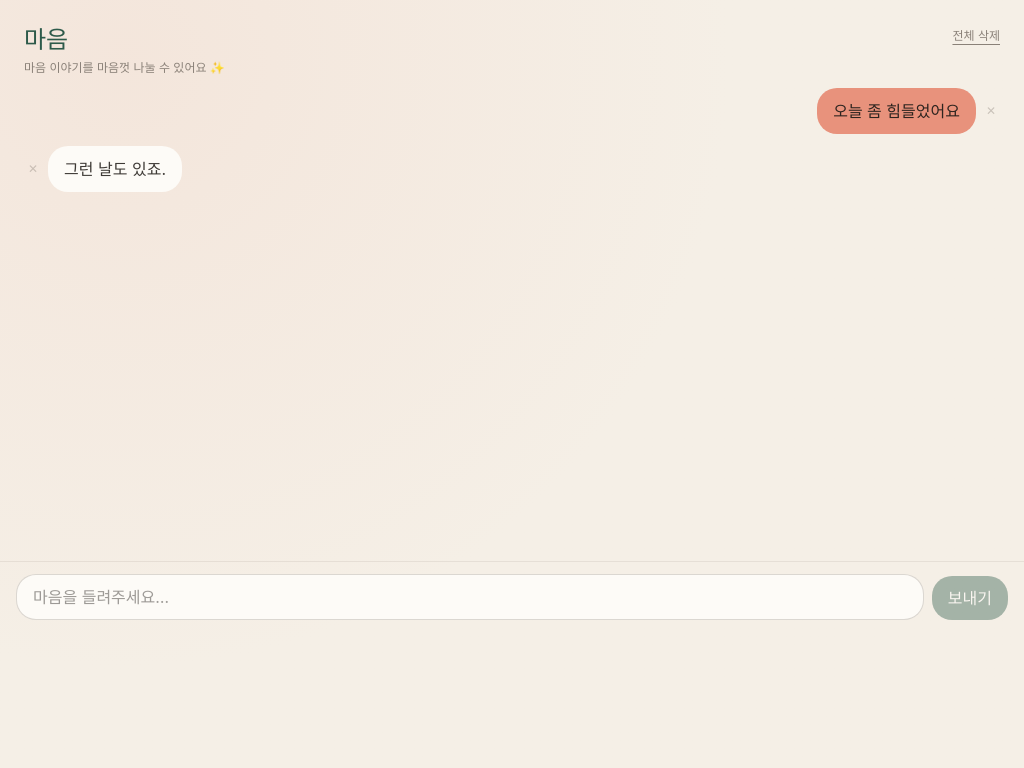
MindChat — 익명 로컬 기록 › 전송 대기 중 전체 삭제하면, 답이 와도 지운 기록이 되살아나지 않는다(스테일 클로저 회귀)
Type "안녕" into the text box with placeholder "마음을 들려주세요…" at (470, 597), box 16,574 -> 924,620
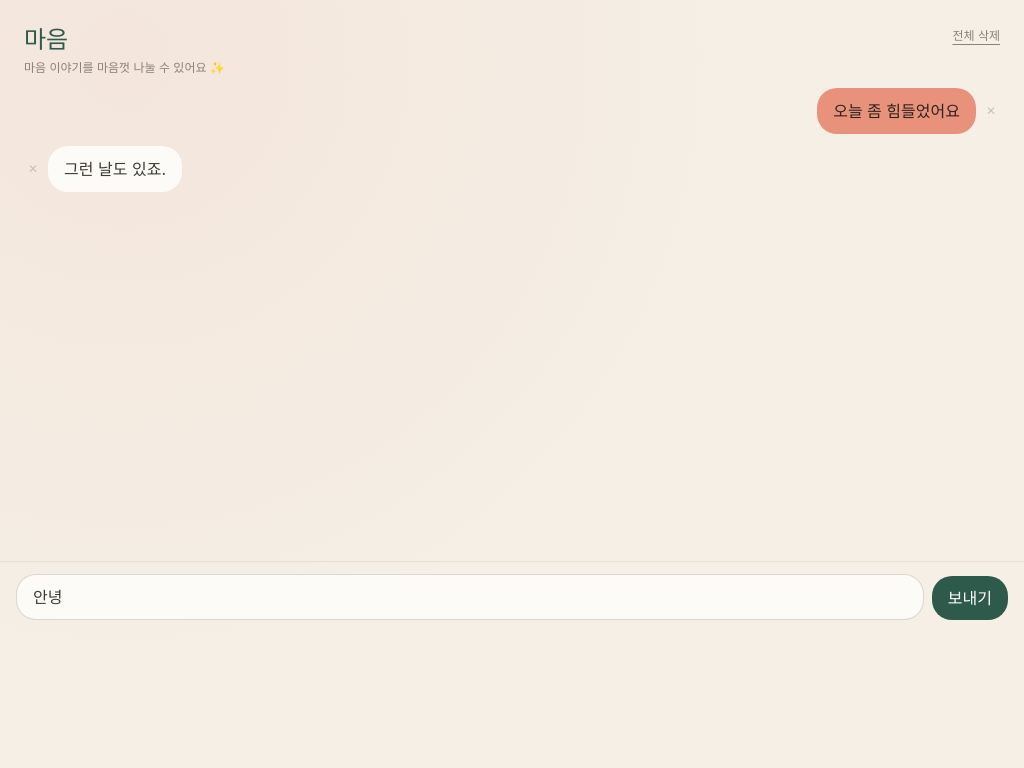
Click the button "보내기" at (970, 598), box 932,576 -> 1008,620
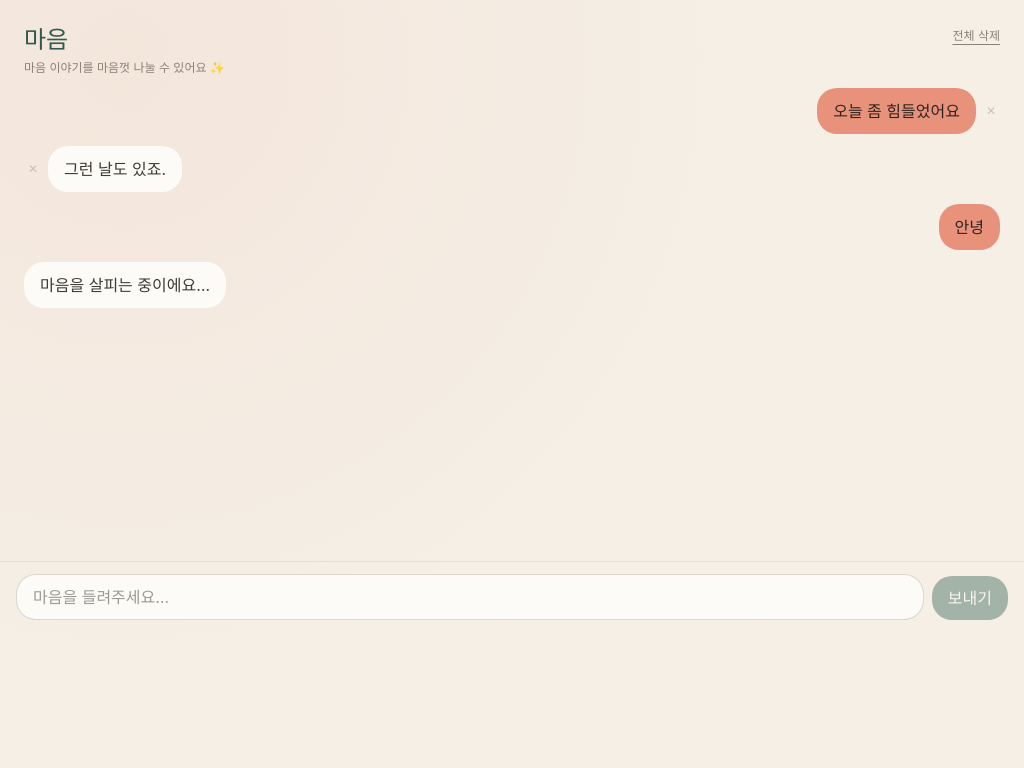
응답 대기 중 전체 삭제
Click the button "전체 삭제" at (976, 36), box 952,28 -> 1000,44
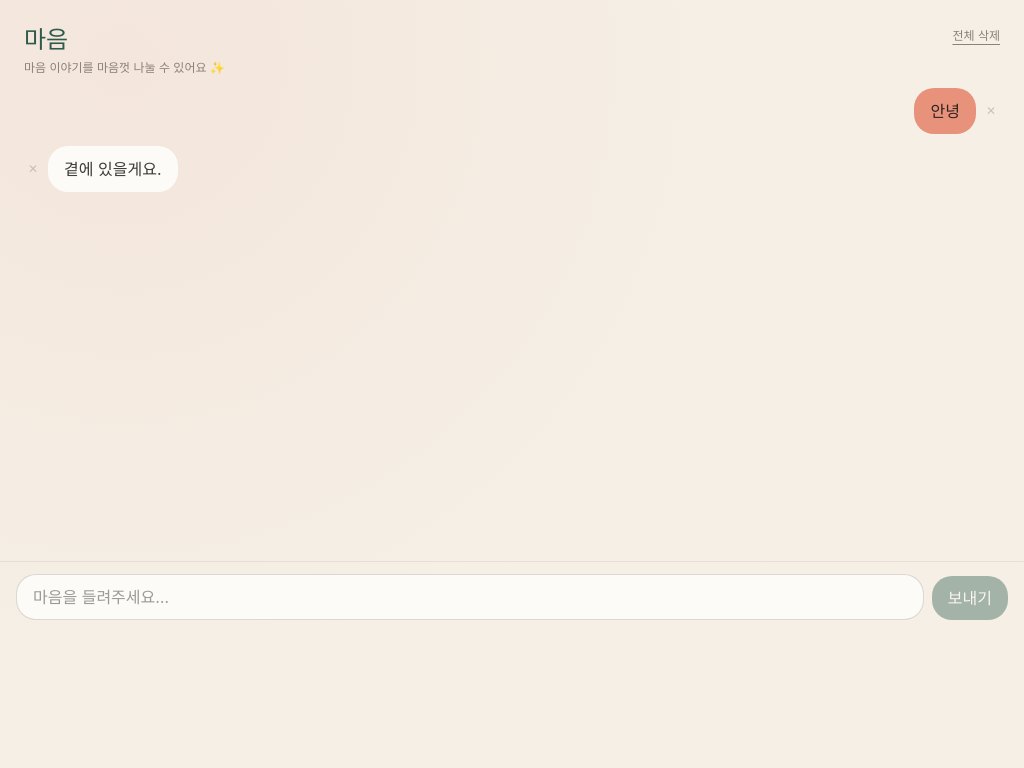
Expected: the text "곁에 있을게요." is shown, 48,146 -> 178,192
Expected: the text "오늘 좀 힘들었어요" is gone
